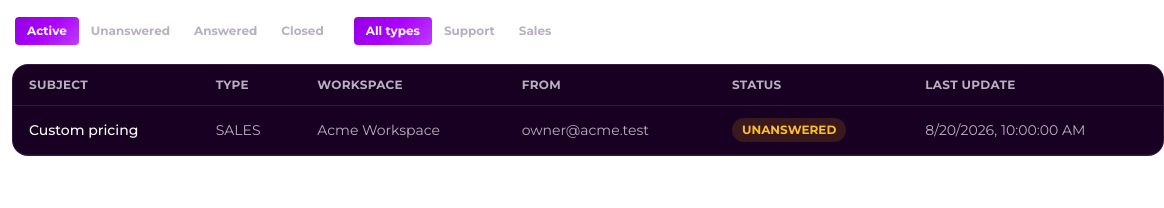
Test: AdminTickets › filters by type
Expected: the link "Custom pricing" is shown, top-left (29, 121), bottom-right (138, 139)
Click the button "Support": x=469, y=31 top-left (432, 17), bottom-right (507, 45)
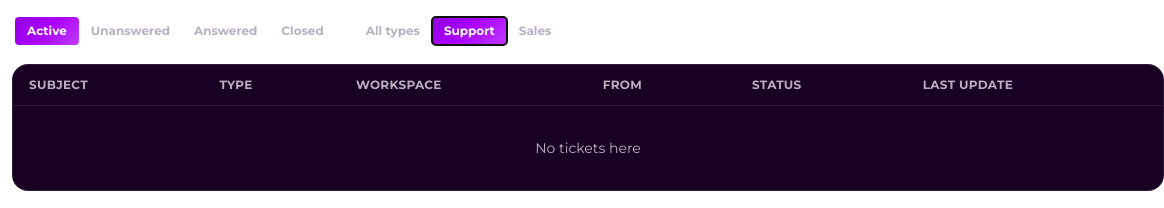
Now the text "No tickets here" is shown, box top-left (13, 106), bottom-right (1163, 190)
